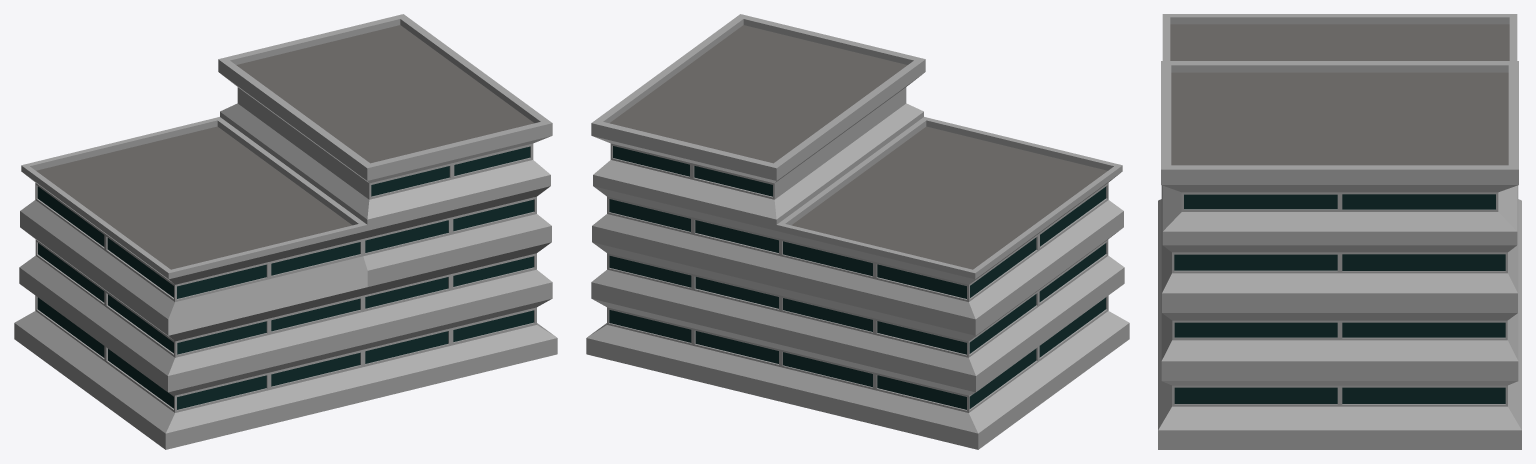
3 renders of one model, left to right at view 1: azimuth 30°, elevation 25°; view 2: azimuth 150°, elevation 25°; view 3: azimuth 270°, elevation 25°, orthographic. The views are drawn at different scales.
Parts seen in each view (by area): view 1: building 1; view 2: building 1; view 3: building 1.
Part boxes in pixels (x1=…): building 1: x1=14, y1=14, x2=557, y2=449; building 1: x1=586, y1=14, x2=1129, y2=449; building 1: x1=1158, y1=14, x2=1521, y2=449.
Size of the model in its own units: 727 by 410 by 487.
